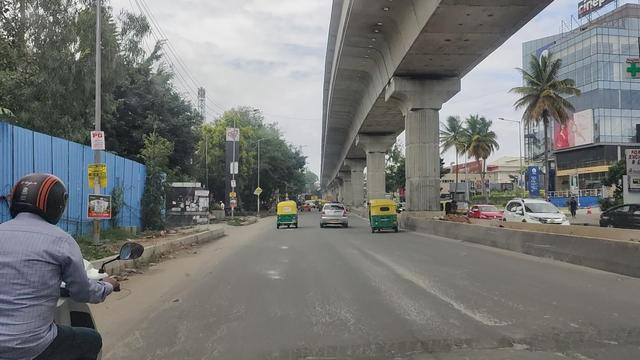LMV: (370, 200, 398, 236), (320, 203, 348, 230), (276, 201, 297, 228)
RoadDamages: (467, 320, 575, 358)
